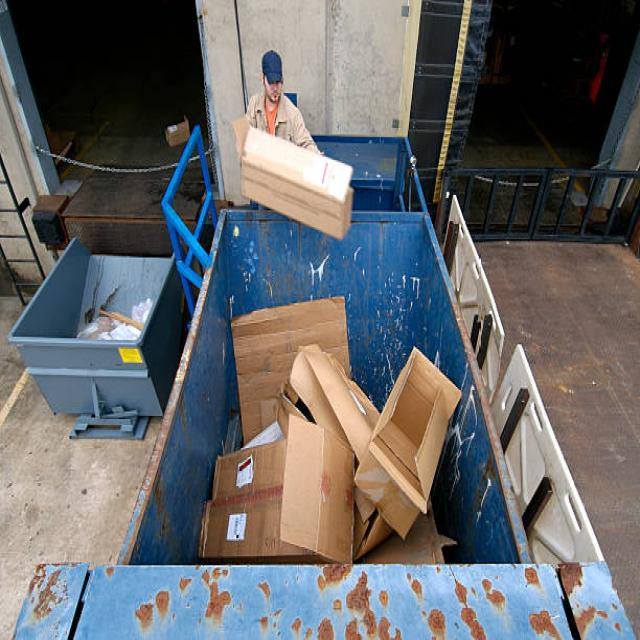cardboard: (225, 302, 446, 560), (228, 124, 367, 230)
